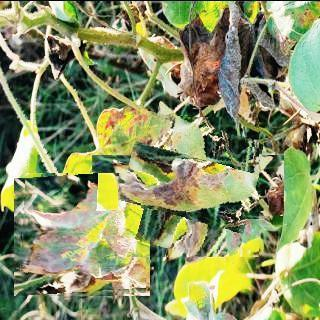blight: (117, 114, 259, 256)
curl: (19, 172, 146, 300)
